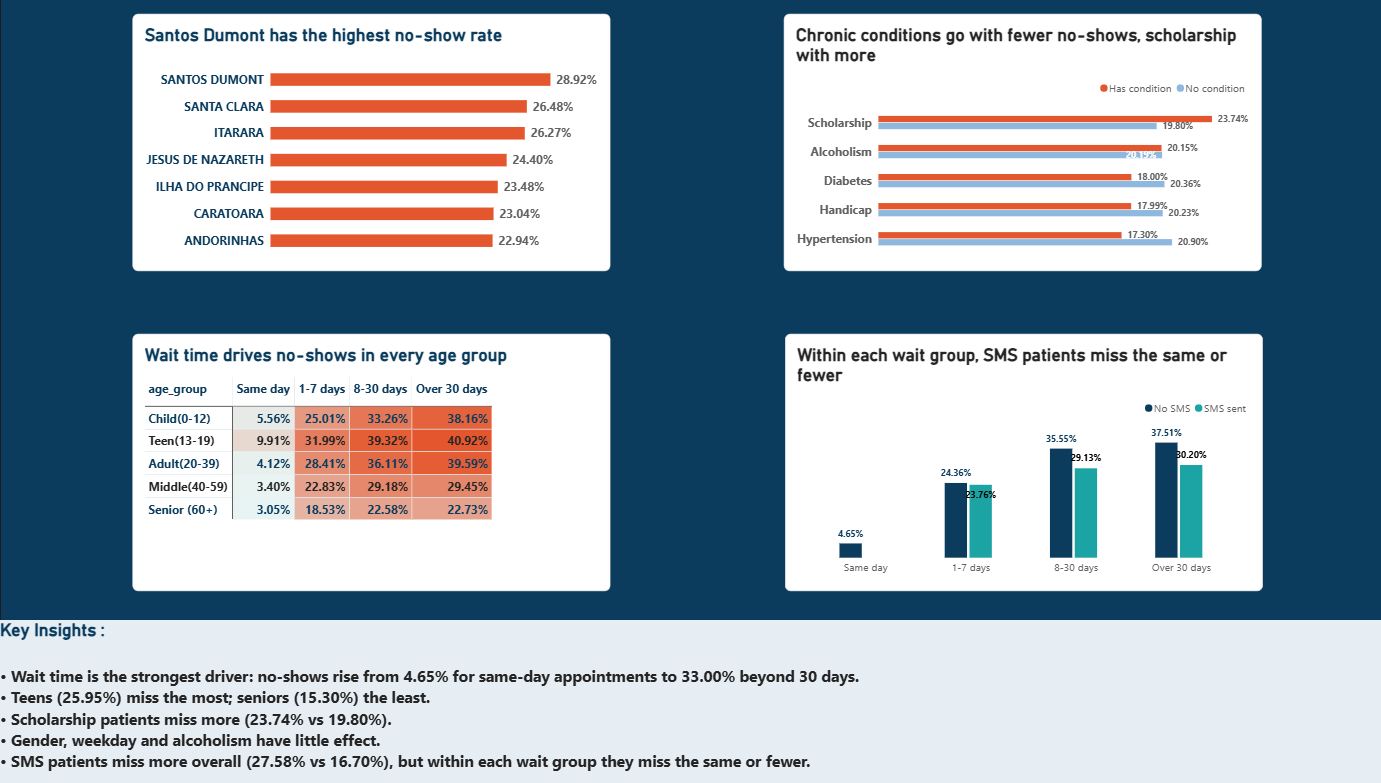

The page's visual inventory and layout, read from the dashboard file:
{"tool":"powerbi","page":{"name":"Page 2","canvas":[1920,1080],"ordinal":1},"visuals":[{"type":"shape","box":[0,0,1920.4,1079.7],"z":0},{"type":"clusteredBarChart","title":"Santos Dumont has the highest no-show rate","fields":{"Category":["appointments_clean.neighbourhood"],"Y":["appointments_clean.No Show Rate"]},"box":[179.7,26.2,650,350],"z":1000},{"type":"clusteredBarChart","title":"Chronic conditions go with fewer no-shows, scholarship with more","fields":{"Category":["Condition Compare.Condition"],"Y":["Avg(Condition Compare.Has condition)","Avg(Condition Compare.No condition)"]},"box":[1067.4,26.2,650,350],"z":2000},{"type":"clusteredColumnChart","title":"Within each wait group, SMS patients miss the same or fewer","fields":{"Category":["appointments_clean.wait_group"],"Series":["appointments_clean.SMS Label"],"Y":["appointments_clean.No Show Rate"]},"box":[1069.2,460.5,650,350],"z":3000},{"type":"pivotTable","title":"Wait time drives no-shows in every age group","fields":{"Columns":["appointments_clean.wait_group"],"Rows":["appointments_clean.age_group"],"Values":["appointments_clean.No Show Rate"]},"box":[179.7,460.5,650,350],"z":4000},{"type":"textbox","title":"Key Insights :","box":[0,851.2,1920.4,228.5],"z":6000}]}

Visuals, with their boxes in screenshot pixels (x1, y1, x2, y2), scaled from the page's 1920x1080 canvas onto the 1381x783 screenshot:
shape: l=0, t=0, r=1380, b=782
"Santos Dumont has the highest no-show rate" clusteredBarChart: l=129, t=19, r=597, b=273
"Chronic conditions go with fewer no-shows, scholarship with more" clusteredBarChart: l=768, t=19, r=1235, b=273
"Within each wait group, SMS patients miss the same or fewer" clusteredColumnChart: l=769, t=334, r=1237, b=588
"Wait time drives no-shows in every age group" pivotTable: l=129, t=334, r=597, b=588
"Key Insights :" textbox: l=0, t=617, r=1380, b=782
